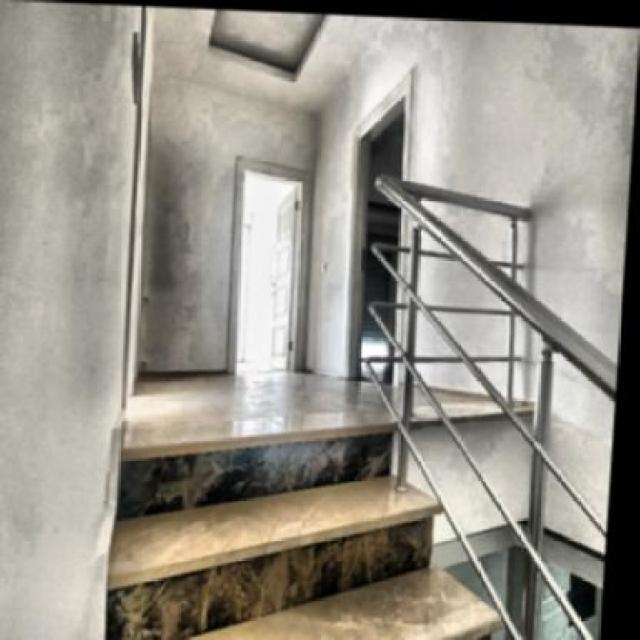stair: (112, 438, 529, 638)
